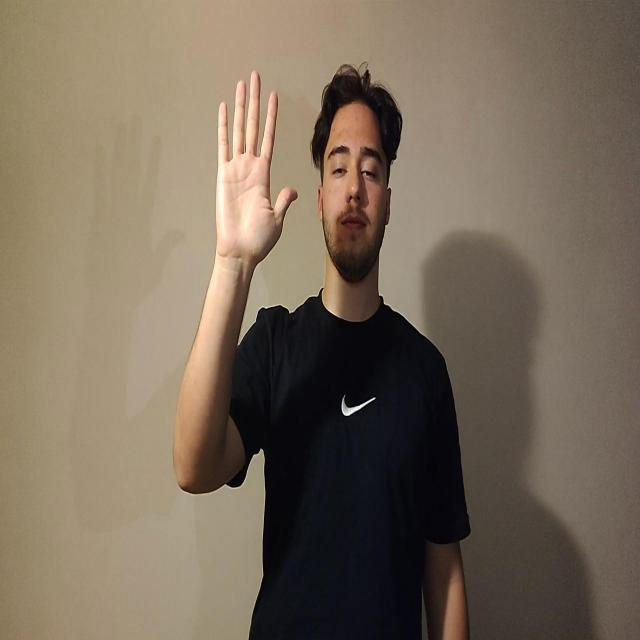hello: (214, 69, 298, 268)
